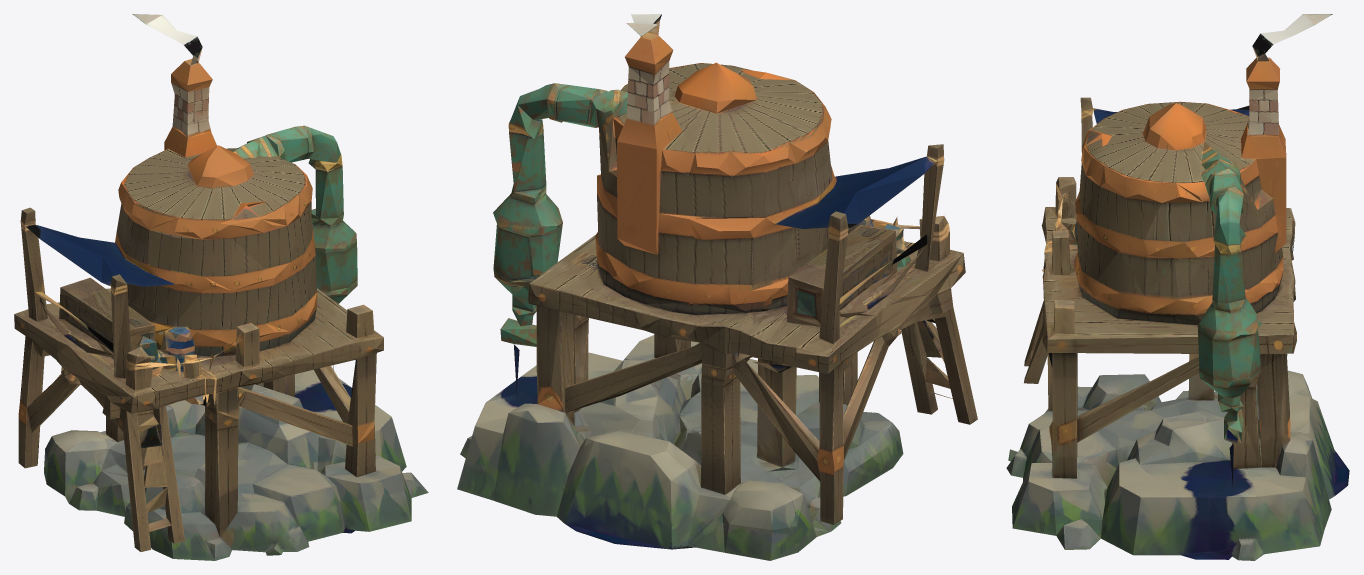
The model's file is refinery.glb.
3 renders of one model, left to right at view 1: azimuth 30°, elevation 25°; view 2: azimuth 150°, elevation 25°; view 3: azimuth 270°, elevation 25°, orthographic. The views are drawn at different scales.
Size of the model in its own units: 1.56 by 1.9 by 1.31.
Materials: 1 (1 with a texture image).
